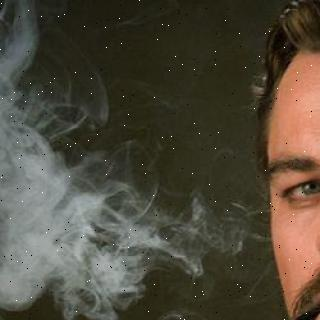smoke: (2, 6, 220, 314)
